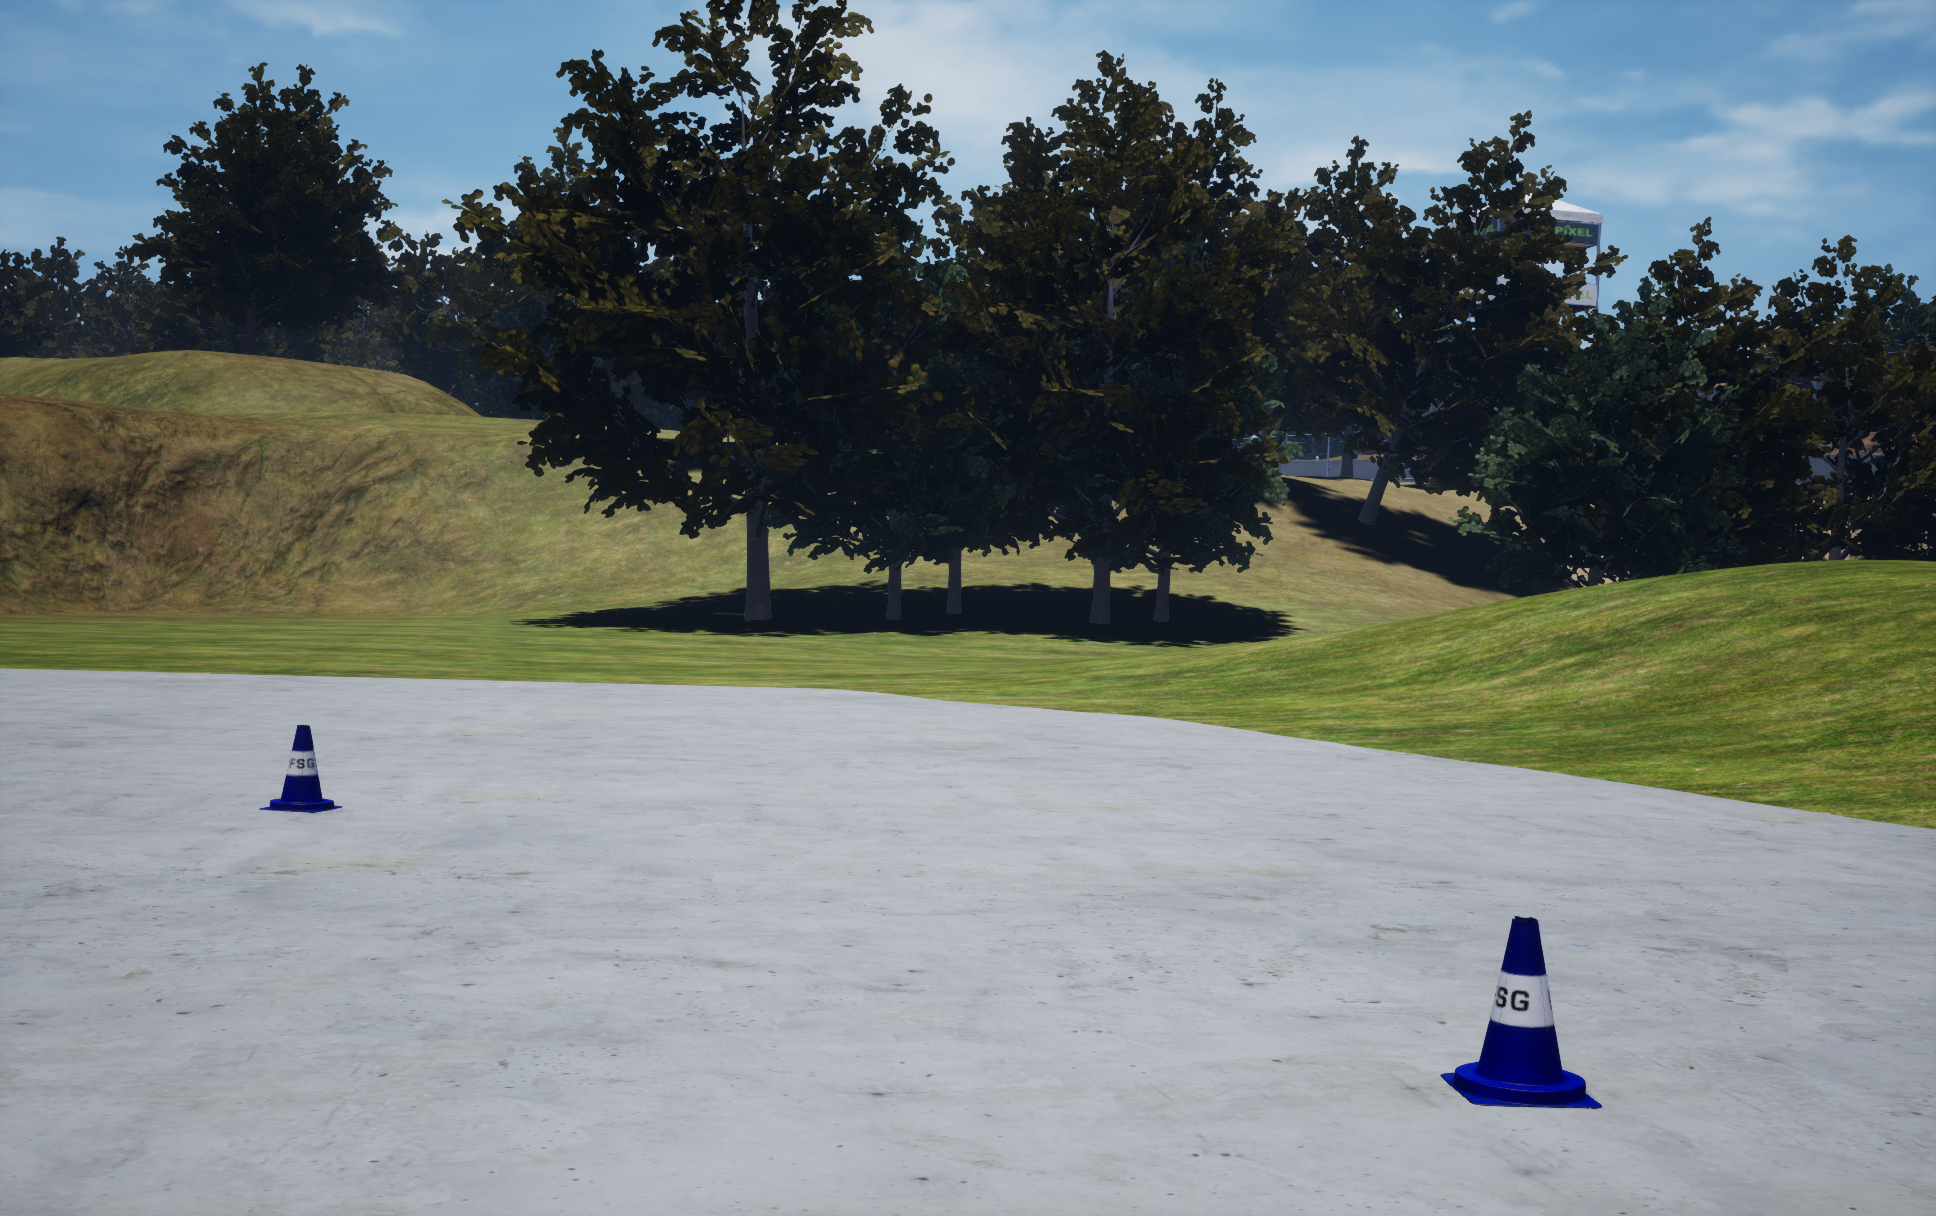yellow: (1440, 916, 1601, 1108), (259, 726, 342, 813)
